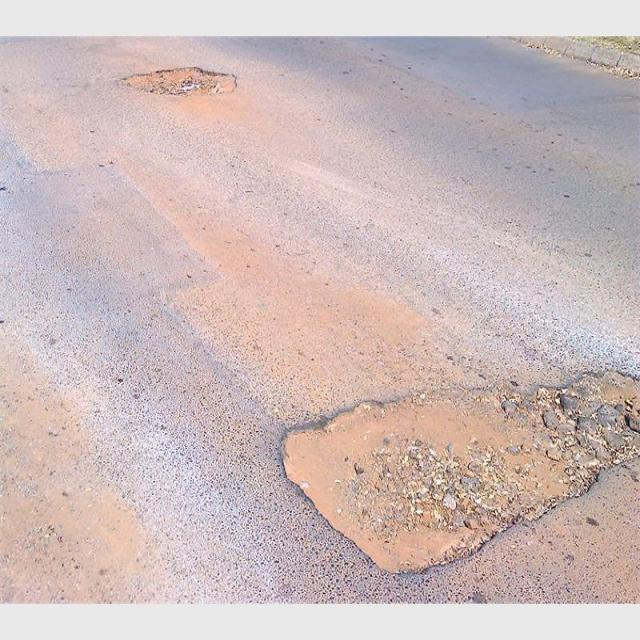Pothole: (282, 371, 636, 575), (120, 63, 240, 96)
